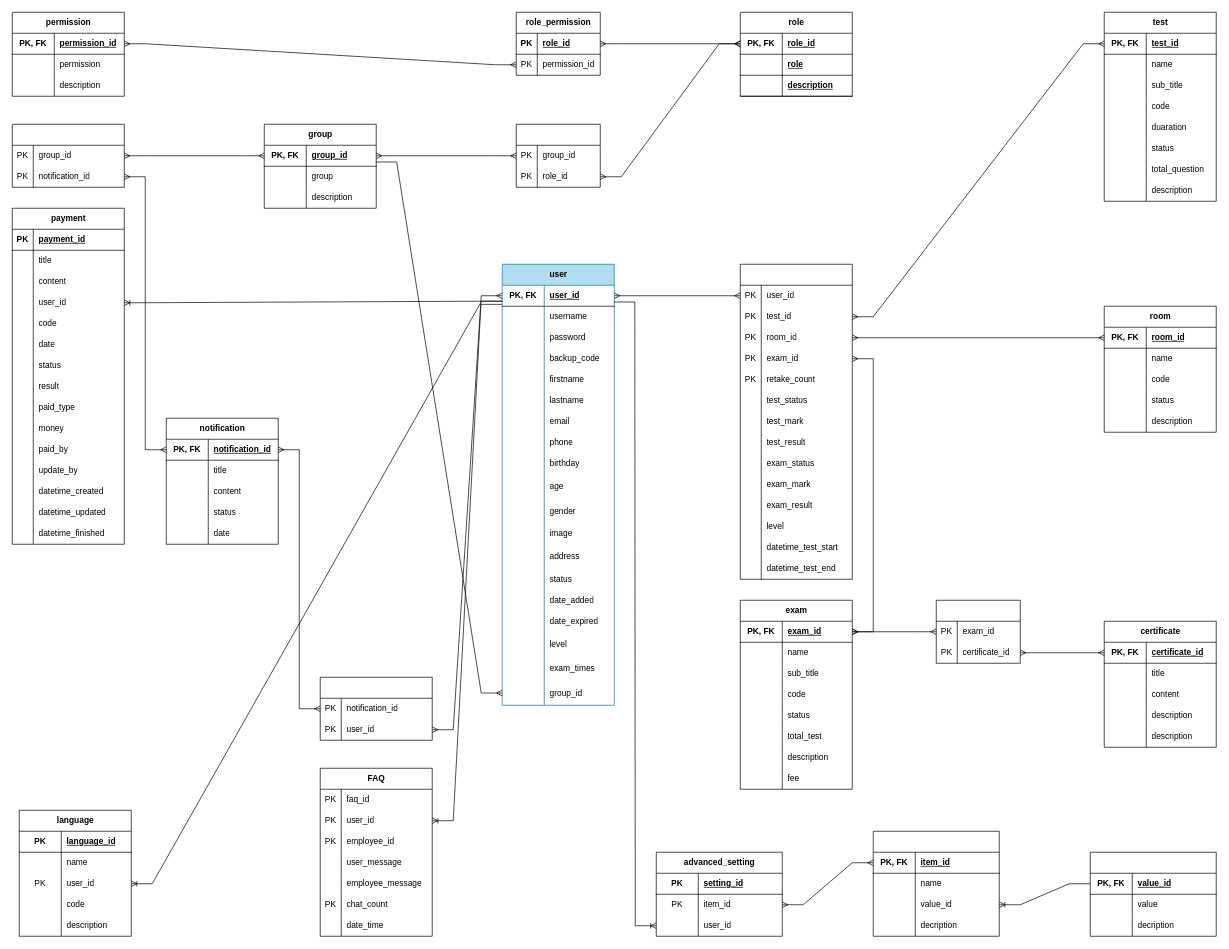
Image size: 1229x949. Some labels were removed from this diagram. The box of each missing label's shape, as (x1, y1, x2, y2) in pixels:
exam_certificate: (936, 600, 1020, 663)
exam_information: (740, 264, 852, 579)
group_notification: (12, 124, 124, 187)
group_role: (516, 124, 600, 187)
setting_item: (873, 831, 999, 936)
setting_value: (1090, 852, 1216, 936)
user_notification: (320, 677, 432, 740)
